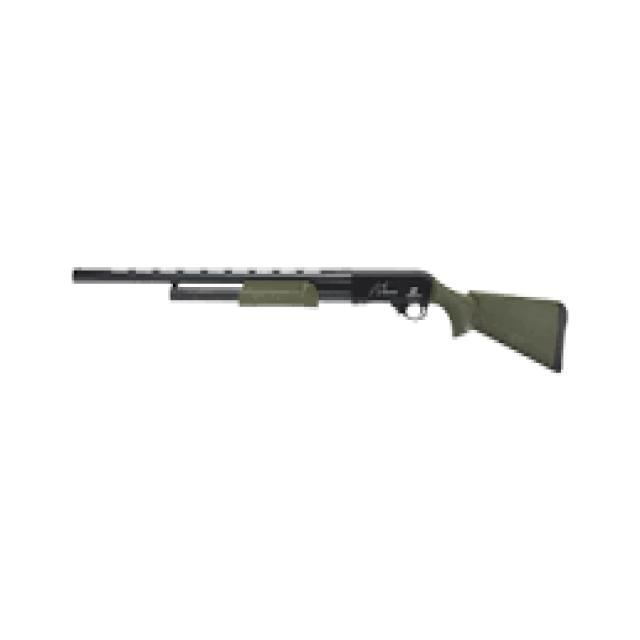rifle: (69, 244, 572, 380)
